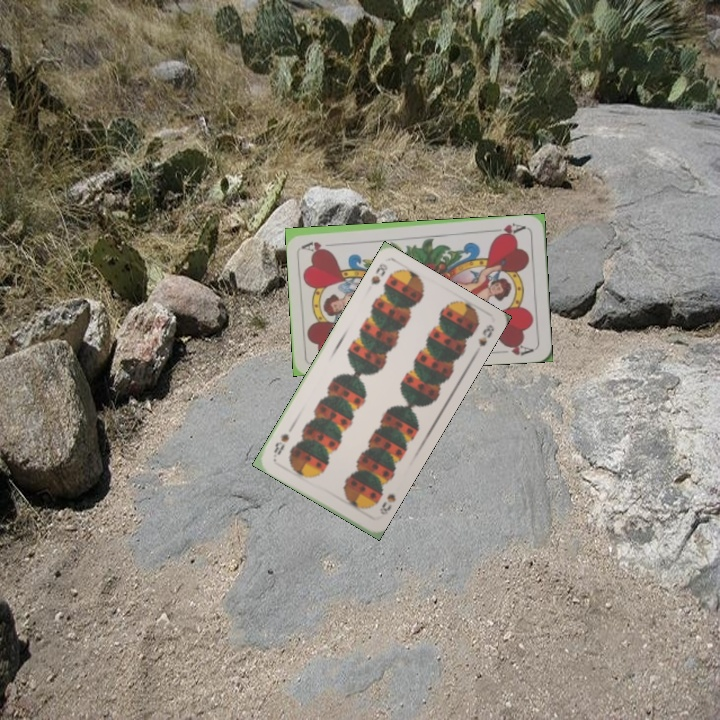HA: (488, 219, 528, 239)
S8: (375, 489, 398, 518), (367, 259, 390, 288)
